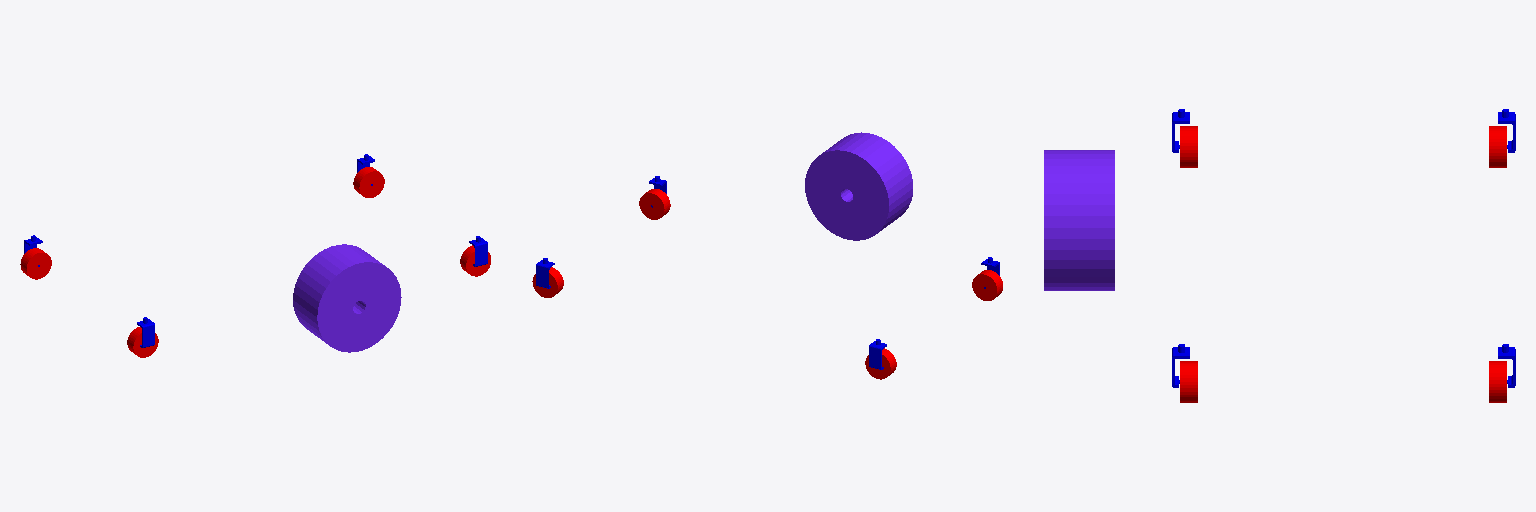
robot.urdf — bot_agv:
<?xml version="1.0" encoding="utf-8"?>

<robot xmlns:xacro="http://ros.org/wiki/xacro" name="bot_agv">

<!-- ****************** ROBOT BASE FOOTPRINT ***************************  -->
  <link name="base_footprint">
  </link>
  <joint name="base_joint" type="fixed">
   <parent link="base_footprint"/>
   <child link="base_link" />
   <origin xyz="0.0 0.0 0.0" rpy="0 0 0" />
  </joint>
  
<!-- ****************** ROBOT BASE LINK     ***************************  -->
<link name="base_link">
  <inertial>
    <origin xyz="0.27563 0.56281 0.7922" rpy="0 0 0" />
    <mass value="158.95" />
    <inertia ixx="9.2282" ixy="3.3569E-05" ixz="7.603E-15"
             iyy="22.081" iyz="-8.5315E-17" izz="13.953" />
  </inertial>

  <visual>
    <origin xyz="-0.3 0.8 -0.5" rpy="0 0 0" />
    <geometry>
      <mesh filename="package://host_agv/meshes/base_link.STL" />
    </geometry>
    <material name="green">
      <color rgba="0 1 0.5 0.9" />
    </material>
  </visual>

  <collision>
    <origin xyz="0 0 0" rpy="0 0 0" />
    <geometry>
      <mesh filename="package://host_agv/meshes/base_link.STL" />
    </geometry>
  </collision>
</link>
<gazebo reference="base_link">
  <material>Gazebo/Green</material>
</gazebo>

<!-- ****************** ROBOT LIDAR LINK     ***************************  -->

<joint name="laser_joint" type="fixed">
  <parent link="base_link"/>
  <child link="laser_link"/>
  <origin xyz="0.37369 0.0078 0.18386" rpy="0 0 0"/>
</joint>

<link name="laser_link">
  <visual>
    <origin xyz="0 0 0" rpy="0 0 0"/>
    <geometry>
      <mesh filename="package://host_agv/models/turtlebot3_common/meshes/lds.dae" scale="0.001 0.001 0.001"/>
    </geometry>
    <material name="dark"/>
  </visual>

  <collision>
    <origin xyz="0.37369 0.0078 0.18386" rpy="0 0 0"/>
    <geometry>
      <cylinder length="0.0315" radius="0.055"/>
    </geometry>
  </collision>

  <inertial>
    <mass value="0.114" />
    <origin xyz="0 0 0" />
    <inertia ixx="0.001" ixy="0.0" ixz="0.0" iyy="0.001" iyz="0.0" izz="0.001" />
  </inertial>
</link>

<!-- *********************** IMU SENSOR SETUP **************************  -->
<joint name="imu_joint" type="fixed">
  <parent link="base_link"/>
  <child link="imu_link"/>
  <origin xyz="0.17369 0.0078 0.16386" rpy="0 0 0"/>
</joint>

<link name="imu_link">
</link>
 
 <!-- ****************** ROBOT WHEEL LINK     ***************************  --> 
<link name="wheel_first">
  <inertial>
    <origin xyz="-5.5511E-17 0 0.05" rpy="0 0 0" />
    <mass value="3.0709" />
    <inertia ixx="0.010409" ixy="-6.074E-38" ixz="3.7616E-35"
             iyy="0.010409" iyz="-3.1038E-35" izz="0.0157" />
  </inertial>

  <visual>
    <origin xyz="0 0 0" rpy="0 0 0" />
    <geometry>
      <mesh filename="package://host_agv/meshes/wheel_first.STL" />
    </geometry>
    <material name="blue">
      <color rgba="0.5 0.2 1 1" />
    </material>
  </visual>

  <collision>
    <origin xyz="0 0 0" rpy="0 0 0" />
    <geometry>
      <mesh filename="package://host_agv/meshes/wheel_first.STL" />
    </geometry>
  </collision>
</link>

<joint name="wheel_first_joint" type="revolute">
  <origin xyz="-0.02436 0.4328 0.04396" rpy="1.5708 0 0" />
  <parent link="base_link" />
  <child link="wheel_first" />
  <limit upper="3.1415" lower="-3.1415" effort="30" velocity="5.0" />
  <axis xyz="0 0 1" />
</joint>
<gazebo reference="wheel_first">
  <material>Gazebo/Blue</material>
</gazebo>
  
<link name="wheel_second">
  <inertial>
    <origin xyz="0 -1.1102E-16 0.05" rpy="0 0 0" />
    <mass value="3.0709" />
    <inertia ixx="0.010409" ixy="-6.074E-38" ixz="4.4417E-37"
             iyy="0.010409" iyz="-3.1038E-35" izz="0.0157" />
  </inertial>

  <visual>
    <origin xyz="0 0 0" rpy="0 0 0" />
    <geometry>
      <mesh filename="package://host_agv/meshes/wheel_second.STL" />
    </geometry>
    <material name="">
      <color rgba="0.5 0.2 1 1" />
    </material>
  </visual>

  <collision>
    <origin xyz="0 0 0" rpy="0 0 0" />
    <geometry>
      <mesh filename="package://host_agv/meshes/wheel_second.STL" />
    </geometry>
  </collision>
</link>

<joint name="wheel_second_joint" type="revolute">
  <origin xyz="-0.02436 -0.3172 0.04396" rpy="1.5708 0 0" />
  <parent link="base_link" />
  <child link="wheel_second" />
  <limit upper="3.1415" lower="-3.1415" effort="30" velocity="5.0" />
  <axis xyz="0 0 1" />
</joint>
<gazebo reference="wheel_second">
  <material>Gazebo/Blue</material>
</gazebo>

<!-- ****************** ROBOT FLAT LINK     ***************************  --> 
<link name="flat_wheel">
  <inertial>
    <origin xyz="0 0 0" rpy="0 0 0" />
    <mass value="0" />
    <inertia ixx="0" ixy="0" ixz="0"
             iyy="0" iyz="0" izz="0" />
  </inertial>

  <visual>
    <origin xyz="0 0 0" rpy="0 0 0" />
    <geometry>
      <mesh filename="package://host_agv/meshes/flat_wheel.STL" />
    </geometry>
    <material name="blue">
      <color rgba="0 0 1 0.3" />
    </material>
  </visual>

  <collision>
    <origin xyz="0 0 0" rpy="0 0 0" />
    <geometry>
      <mesh filename="package://host_agv/meshes/flat_wheel.STL" />
    </geometry>
  </collision>
</link>

<joint name="flat_joint" type="fixed">
  <origin xyz="-0.41936 -0.2222 -0.02806" rpy="1.5708 0 1.5708" />
  <parent link="base_link" />
  <child link="flat_wheel" />
  <axis xyz="0 0 0" />
</joint>
<gazebo reference="flat_wheel">
  <material>Gazebo/Blue</material>
</gazebo>
 
 <!-- ****************** ROBOT FRONT WHEEL     ***************************  -->
<link name="front_1wheel">
  <inertial>
    <origin xyz="0 1.66533453693773E-16 -0.0104999999999971" rpy="0 0 0" />
    <mass value="0.0701949608536469" />
    <inertia ixx="1.95595333628651E-05" ixy="8.470329472543E-22" ixz="3.47762902625147E-20"
             iyy="1.95595333628652E-05" iyz="-2.00251094843313E-20" izz="3.18070916368088E-05" />
  </inertial>

  <visual>
    <origin xyz="0 0 0" rpy="0 0 0" />
    <geometry>
      <mesh filename="package://host_agv/meshes/front_1wheel.STL" />
    </geometry>
    <material name="red">
      <color rgba="1 0 0 0.5" />
    </material>
  </visual>

  <collision>
    <origin xyz="0 0 0" rpy="0 0 0" />
    <geometry>
      <mesh filename="package://host_agv/meshes/front_1wheel.STL" />
    </geometry>
  </collision>
</link>

<joint name="front_1joint" type="fixed">
  <origin xyz="0 0.0025 0.79" rpy="-1.5708 -1.1003 1.5708" />
  <parent link="flat_wheel" />
  <child link="front_1wheel" />
  <axis xyz="0 0 0" />
</joint>
<gazebo reference="front_1wheel">
  <material>Gazebo/Red</material>
</gazebo>
  
<link name="front_2wheel">
  <inertial>
    <origin xyz="-1.11022302462516E-16 1.11022302462516E-16 -0.0125000000000007" rpy="0 0 0" />
    <mass value="0.070194960853647" />
    <inertia ixx="1.95595333628652E-05" ixy="-3.3881317890172E-21" ixz="1.01541800275075E-19"
             iyy="1.95595333628652E-05" iyz="-8.46190000007294E-20" izz="3.18070916368088E-05" />
  </inertial>

  <visual>
    <origin xyz="0 0 0" rpy="0 0 0" />
    <geometry>
      <mesh filename="package://host_agv/meshes/front_2wheel.STL" />
    </geometry>
    <material name="red">
      <color rgba="1 0 0 0.5" />
    </material>
  </visual>

  <collision>
    <origin xyz="0 0 0" rpy="0 0 0" />
    <geometry>
      <mesh filename="package://host_agv/meshes/front_2wheel.STL" />
    </geometry>
  </collision>
</link>

<joint name="front_2joint" type="fixed">
  <origin xyz="0.437 0.0025 0.79" rpy="-1.5708 -0.86891 1.5708" />
  <parent link="flat_wheel" />
  <child link="front_2wheel" />
  <axis xyz="0 0 0" />
</joint>
<gazebo reference="front_2wheel">
  <material>Gazebo/Red</material>
</gazebo>

<!-- ****************** ROBOT BACK WHEEL     ***************************  -->
<link name="back_3wheel">
  <inertial>
    <origin xyz="-1.38777878078145E-16 5.55111512312578E-17 -0.0125000000000007" rpy="0 0 0" />
    <mass value="0.070194960853647" />
    <inertia ixx="1.95595333628652E-05" ixy="2.11758236813575E-22" ixz="1.26072715151201E-19"
             iyy="1.95595333628652E-05" iyz="-2.12874478134967E-20" izz="3.18070916368088E-05" />
  </inertial>

  <visual>
    <origin xyz="0 0 0" rpy="0 0 0" />
    <geometry>
      <mesh filename="package://host_agv/meshes/back_3wheel.STL" />
    </geometry>
    <material name="red">
      <color rgba="1 0 0 0.5" />
    </material>
  </visual>

  <collision>
    <origin xyz="0 0 0" rpy="0 0 0" />
    <geometry>
      <mesh filename="package://host_agv/meshes/back_3wheel.STL" />
    </geometry>
  </collision>
</link>

<joint name="back_3joint" type="fixed">
  <origin xyz="0.437 0.0025 0" rpy="-1.5708 -1.4047 1.5708" />
  <parent link="flat_wheel" />
  <child link="back_3wheel" />
  <axis xyz="0 0 0" />
</joint>
<gazebo reference="back_3wheel">
  <material>Gazebo/Red</material>
</gazebo>
  
<link name="back_4wheel">
  <inertial>
    <origin xyz="0.00617510377435704 0.004256535372333 -0.0105000000000002" rpy="0 0 0" />
    <mass value="0.0701949608536465" />
    <inertia ixx="1.9559533362865E-05" ixy="0" ixz="-2.29323325928426E-20"
             iyy="1.9559533362865E-05" iyz="3.65719482132971E-20" izz="3.18070916368085E-05" />
  </inertial>

  <visual>
    <origin xyz="0 0 0" rpy="0 0 0" />
    <geometry>
      <mesh filename="package://host_agv/meshes/back_4wheel.STL" />
    </geometry>
    <material name="red">
      <color rgba="1 0 0 0.5" />
    </material>
  </visual>

  <collision>
    <origin xyz="0 0 0" rpy="0 0 0" />
    <geometry>
      <mesh filename="package://host_agv/meshes/back_4wheel.STL" />
    </geometry>
  </collision>
</link>

<joint name="back_4joint" type="fixed">
  <origin xyz="0 0.01 0" rpy="1.5708 0.60351 -1.5708" />
  <parent link="flat_wheel" />
  <child link="back_4wheel" />
  <axis xyz="0 0 0" />
</joint>
<gazebo reference="back_4wheel">
  <material>Gazebo/Red</material>
</gazebo>

</robot>

--- What the picture shows (computed from the rendered views, not written in the file) ---
Views: 3 orthographic renders of the robot side by side, from view 1: azimuth 30°, elevation 25°; view 2: azimuth 150°, elevation 25°; view 3: azimuth 270°, elevation 25°.
Model bot_agv with 11 links and 10 joints (2 revolute, 8 fixed), rooted at base_footprint, posed all joints at 0.
Visible links, largest first — view 1: wheel_second, flat_wheel, back_3wheel, front_2wheel; view 2: wheel_second, flat_wheel, back_4wheel, front_1wheel; view 3: wheel_second, flat_wheel, front_1wheel, front_2wheel, back_3wheel, back_4wheel.
Boxes of the visible links, x1=… form: wheel_second: x1=293, y1=244, x2=401, y2=352; flat_wheel: x1=24, y1=154, x2=487, y2=347; back_3wheel: x1=20, y1=248, x2=51, y2=279; front_2wheel: x1=353, y1=167, x2=384, y2=197; wheel_second: x1=805, y1=132, x2=912, y2=240; flat_wheel: x1=536, y1=176, x2=999, y2=369; back_4wheel: x1=972, y1=270, x2=1002, y2=300; front_1wheel: x1=639, y1=189, x2=670, y2=219; wheel_second: x1=1044, y1=150, x2=1114, y2=290; flat_wheel: x1=1172, y1=109, x2=1515, y2=387; front_1wheel: x1=1180, y1=361, x2=1197, y2=402; front_2wheel: x1=1489, y1=361, x2=1506, y2=402; back_3wheel: x1=1489, y1=126, x2=1506, y2=167; back_4wheel: x1=1180, y1=126, x2=1197, y2=167.
Bounding box of the posed robot: 0.85 × 0.669 × 0.1993 m (x, y, z).
6 mesh visuals loaded from 9 distinct referenced files (6 binary STL); not drawn: 3 (reference not matched to a file when rendering).